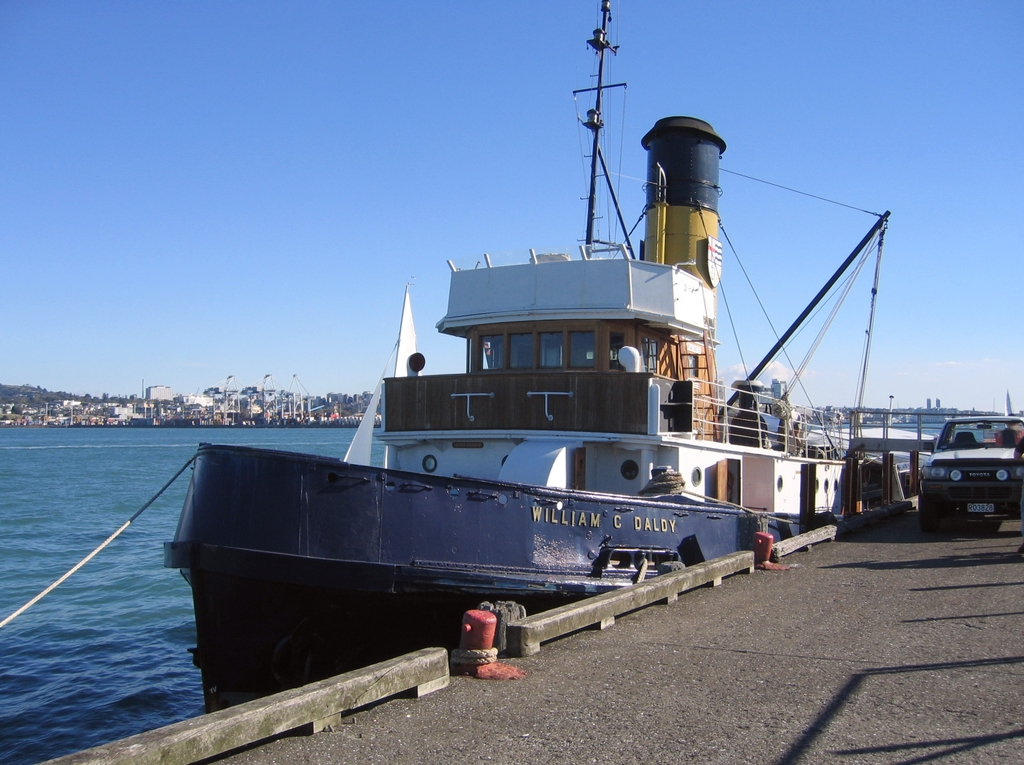Car: (917, 415, 1023, 535)
